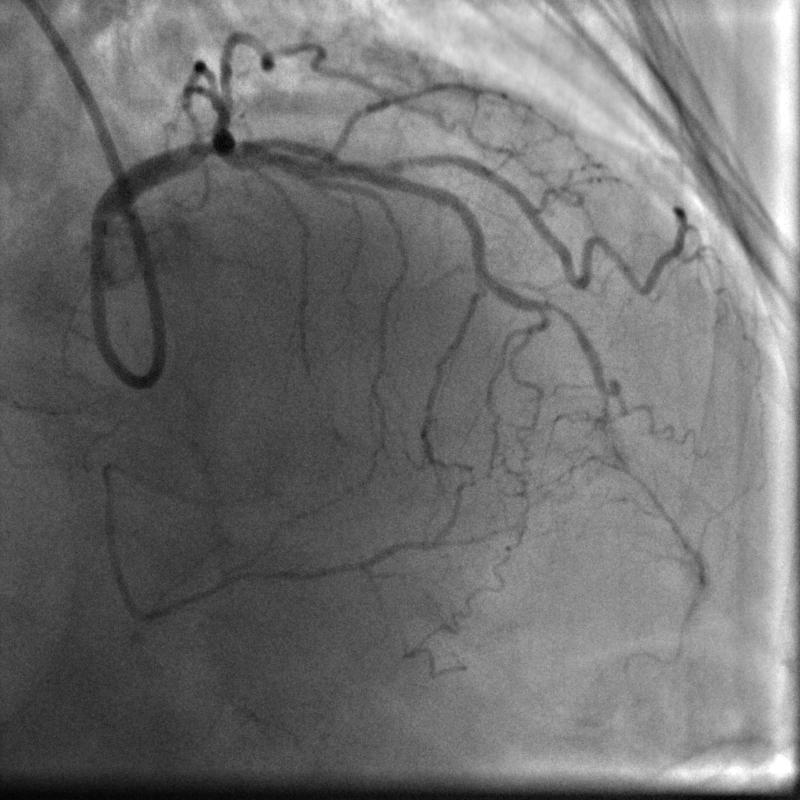Stenosis: (186, 125, 220, 172)
